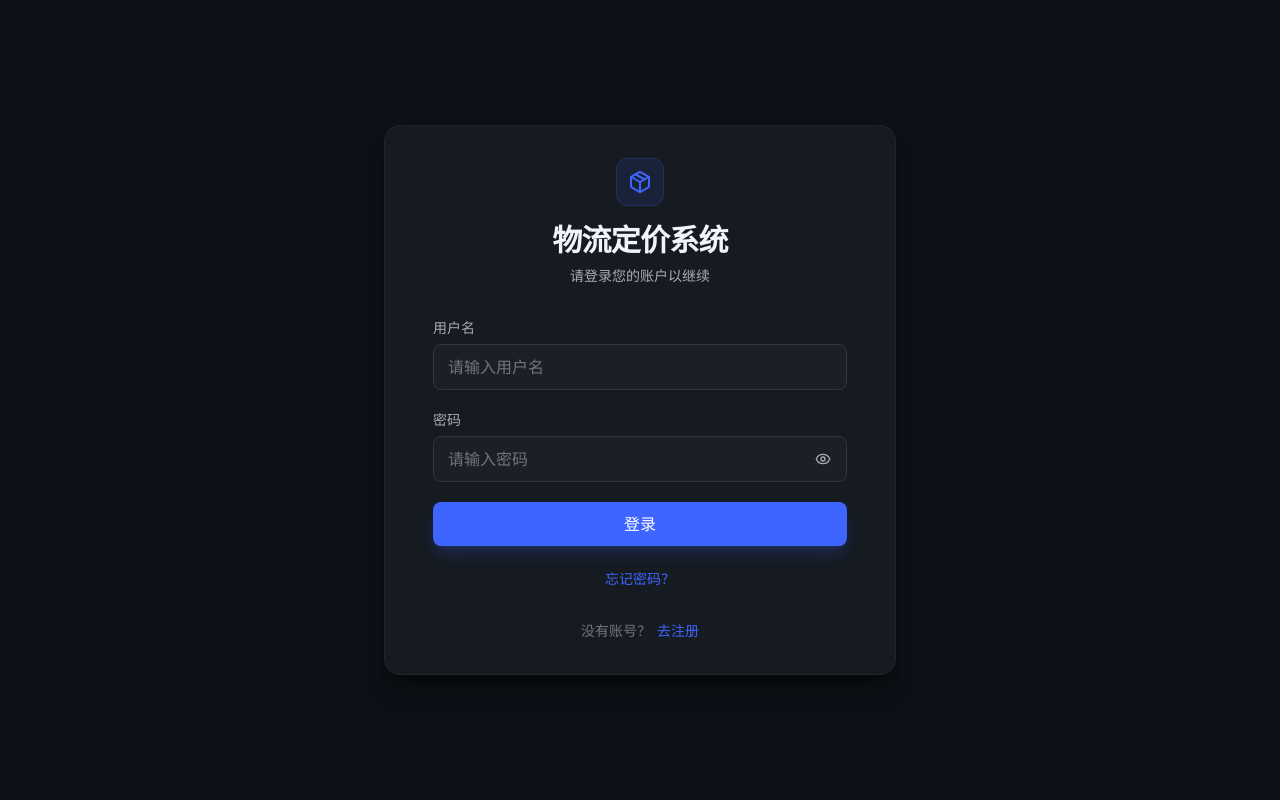
Test: LoginPage › shows password min length error (min 13)
The width and height of the screenshot is (1280, 800).
In the field with placeholder "请输入用户名": (640, 367) x1=433 y1=344 x2=847 y2=390, type "admin"
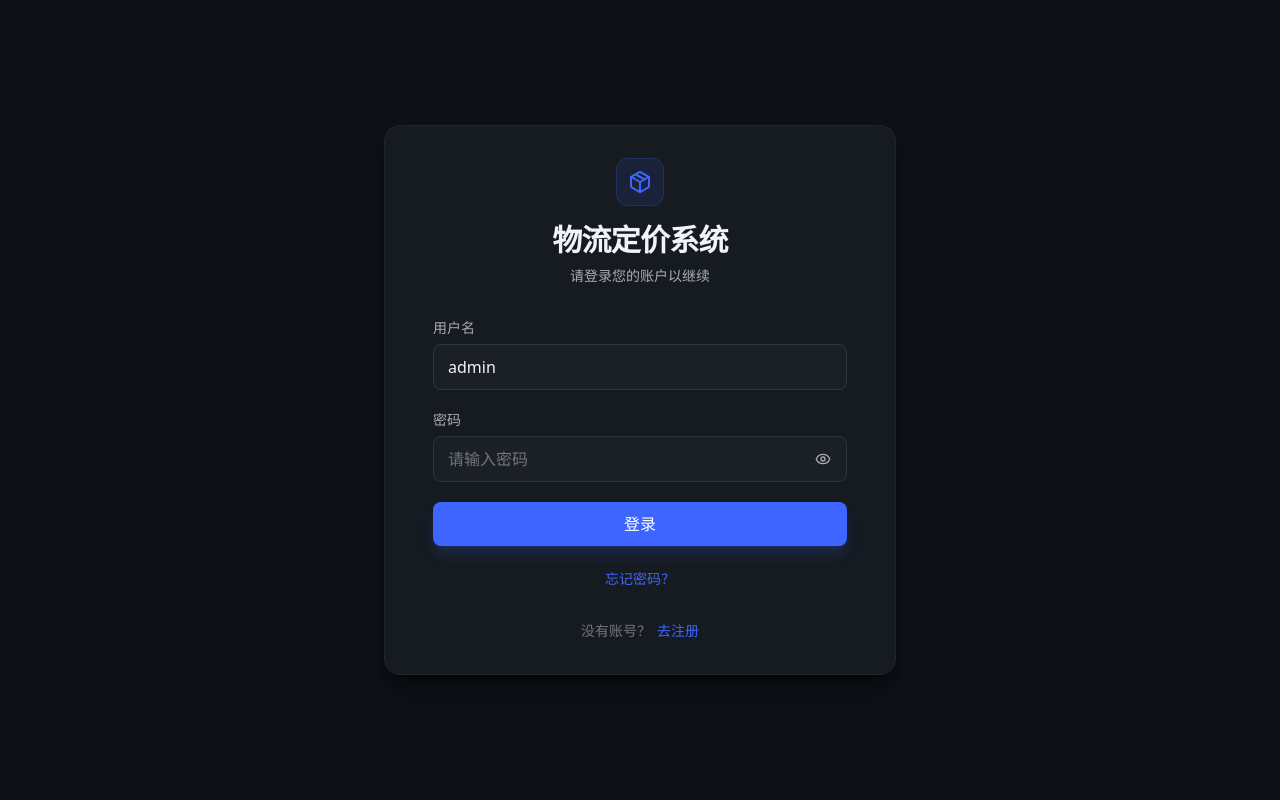
In the password field with placeholder "请输入密码": (640, 459) x1=433 y1=436 x2=847 y2=482, type "123456"
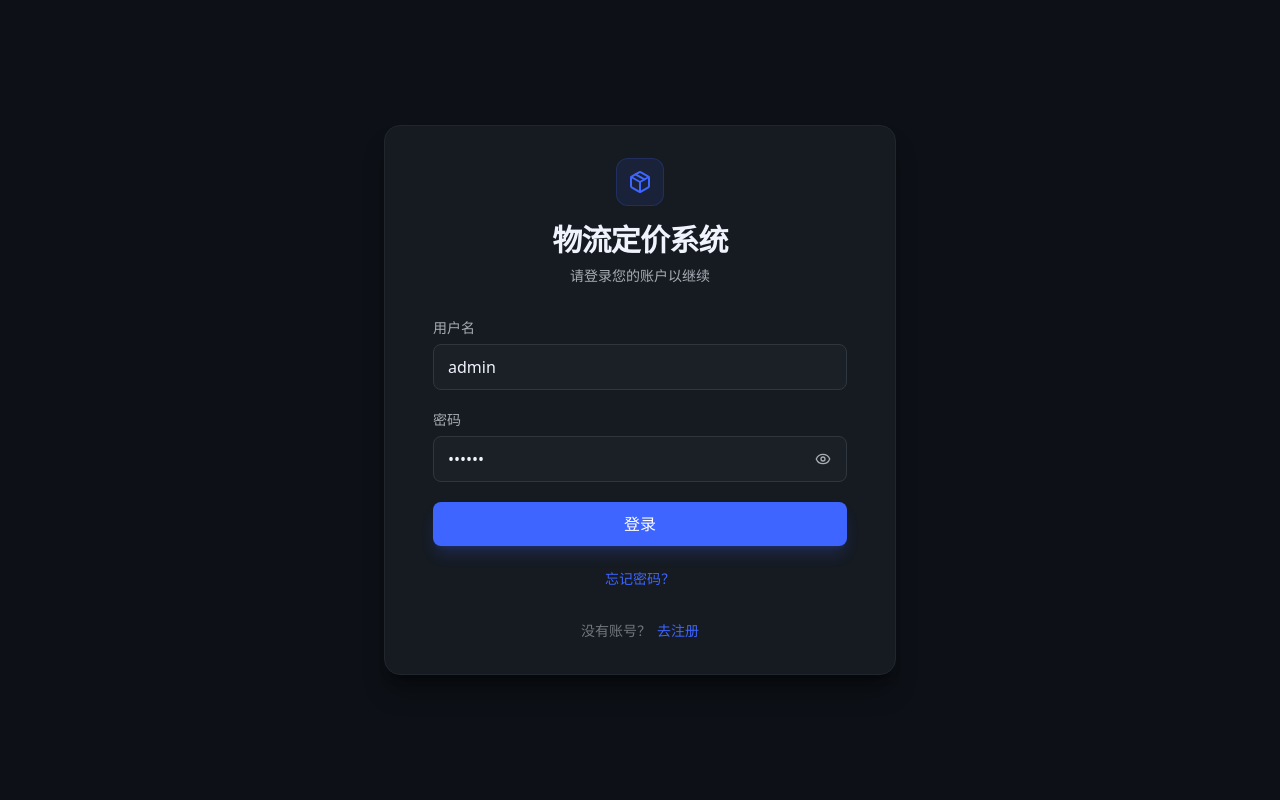
Click the button "登录": click(640, 524) x1=433 y1=502 x2=847 y2=546
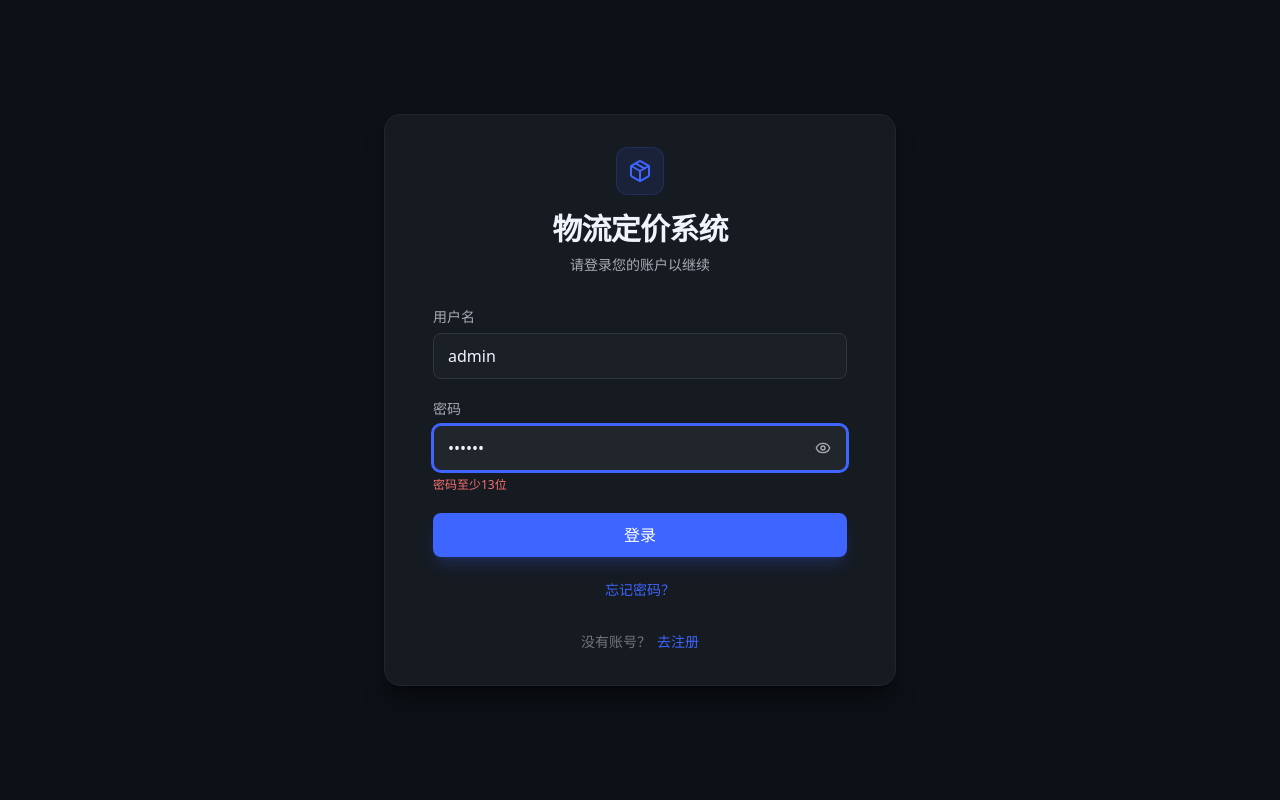
Expected: the text "请输入用户名" is not shown
Now the text "密码至少13位" is shown, box x1=433 y1=476 x2=507 y2=493
